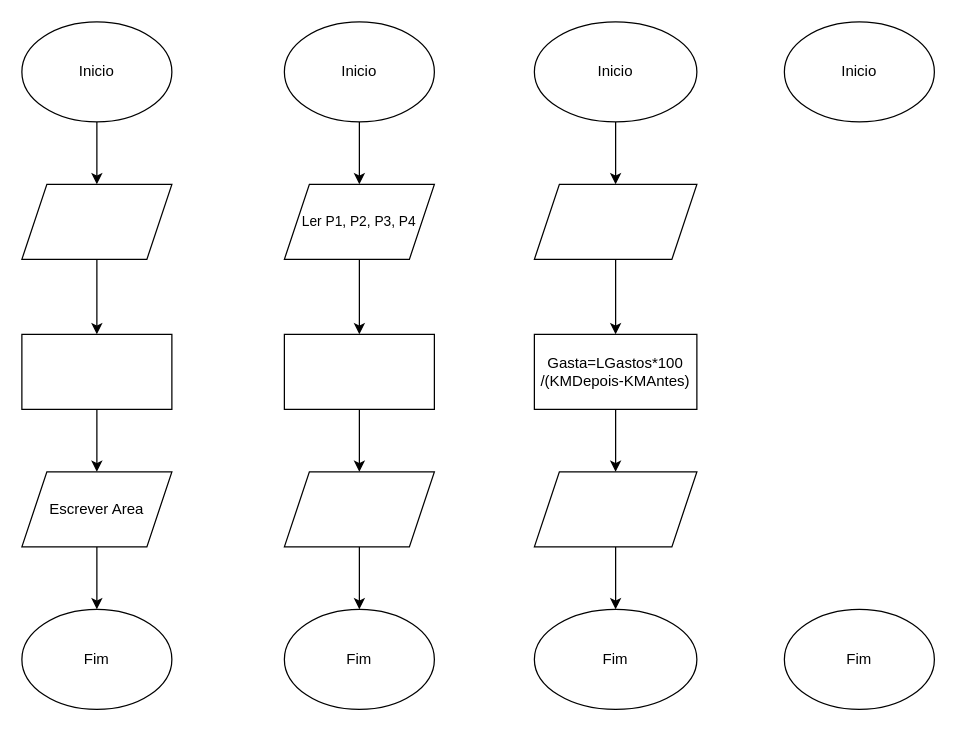
This 956x731 diagram has some shape labels left out. Each missing label, with the centre of its shape:
(P1+P2+P3+P4) /4=M: [358,371]
Area = Lado * Lado: [96,371]
Escrever Gasta: [615,509]
Escrever M: [358,509]
Ler KMAntes, KMDepois, LGastos: [615,221]
Ler Lado: [96,221]
